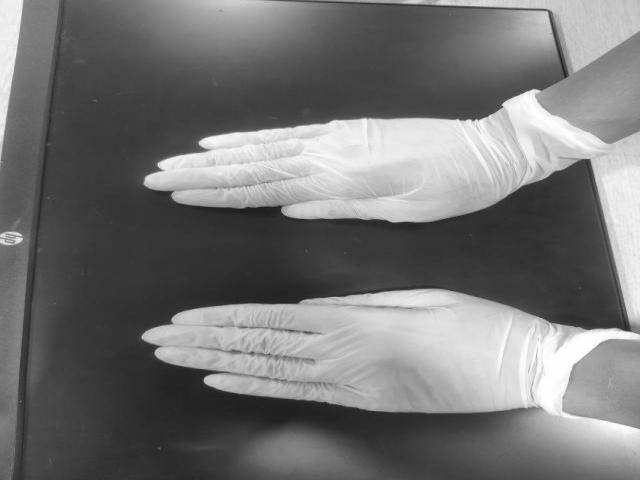gloved: (139, 285, 524, 416), (144, 114, 502, 224)
